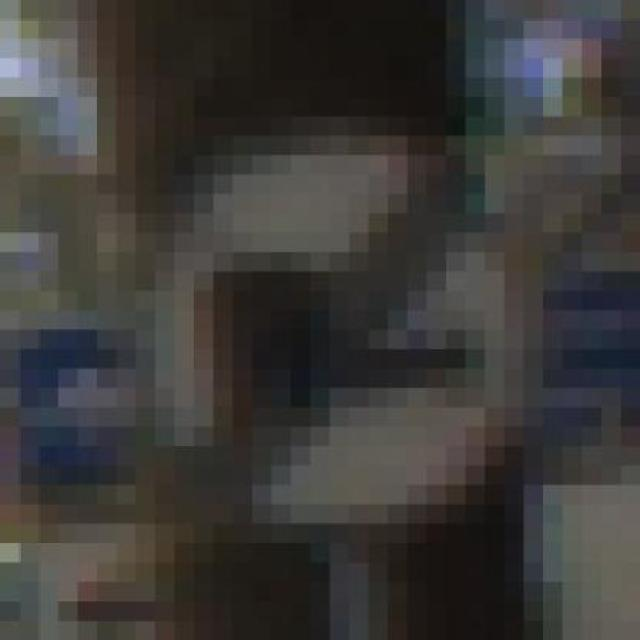Overtaking by trucks is prohibited: (97, 58, 581, 562)
